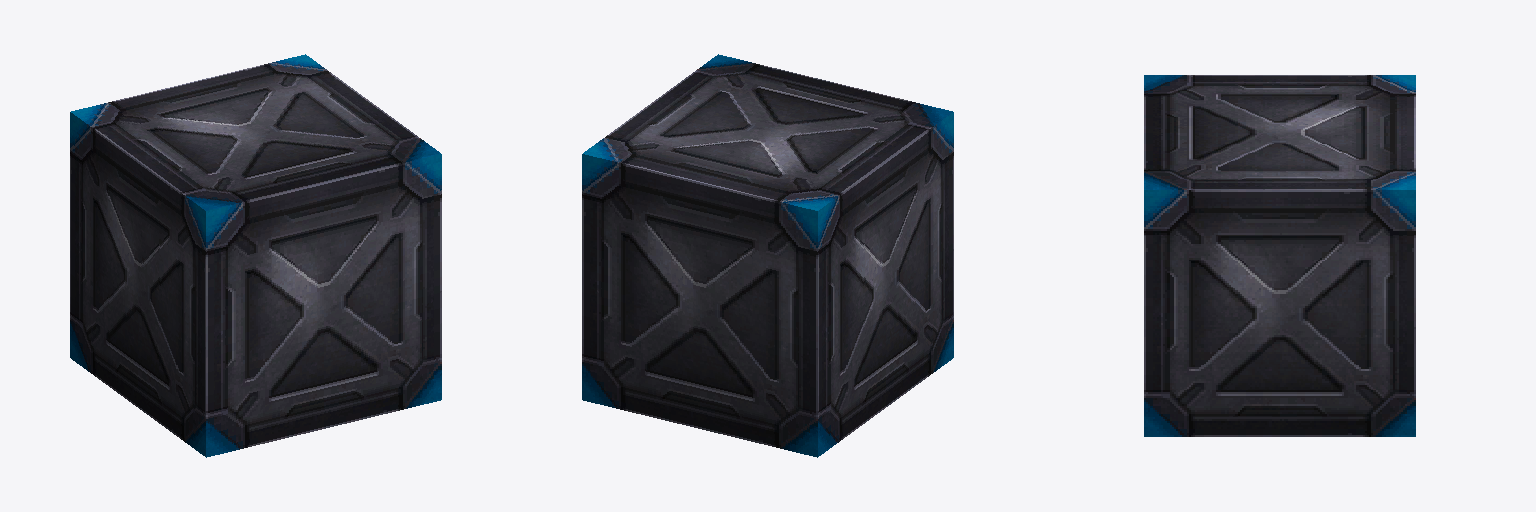
The picture shows the model from 3 angles: view 1: azimuth 30°, elevation 25°; view 2: azimuth 150°, elevation 25°; view 3: azimuth 270°, elevation 25°; orthographic projection.
Visible parts, largest first — view 1: polygon0, polygon1; view 2: polygon0, polygon1; view 3: polygon0, polygon1.
Boxes of the visible parts, <box> form: polygon0: <box>70,64,441,447</box>; polygon1: <box>70,54,441,457</box>; polygon0: <box>582,64,953,447</box>; polygon1: <box>582,54,953,457</box>; polygon0: <box>1144,75,1415,436</box>; polygon1: <box>1144,75,1415,436</box>.
Size of the model in its own units: 20 by 20 by 20.
2 materials, 1 textured.